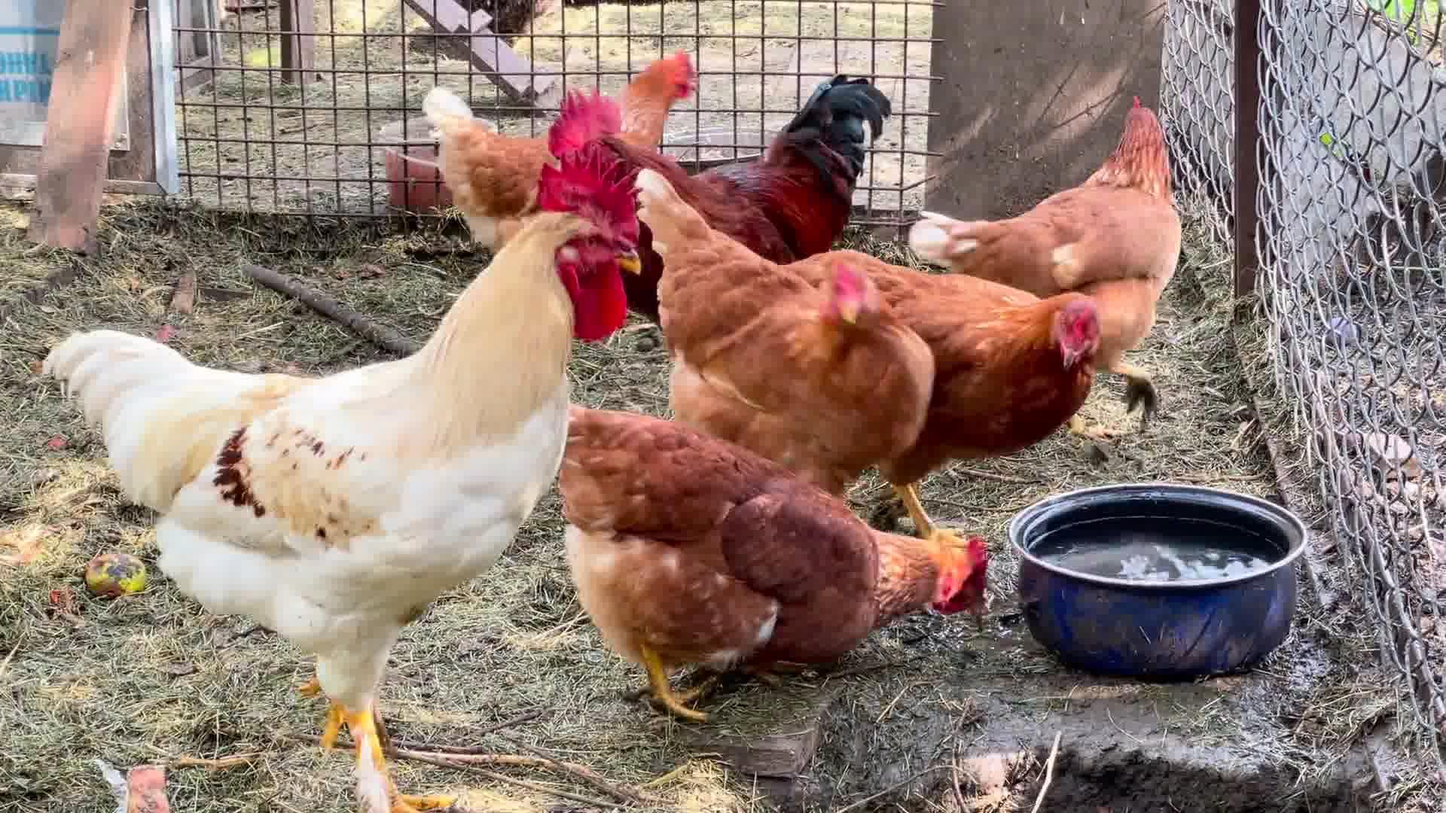Normal: (42, 158, 652, 813), (567, 405, 989, 718), (411, 57, 887, 307), (627, 172, 936, 512), (925, 91, 1242, 366)
